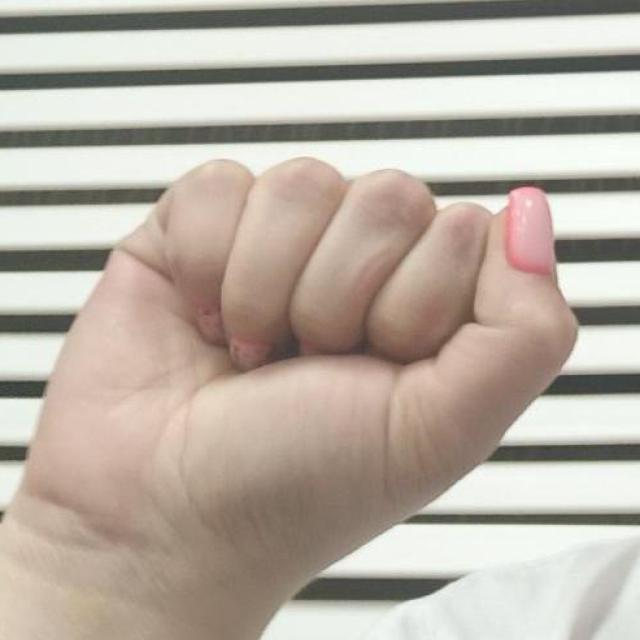hand: (1, 154, 582, 638)
